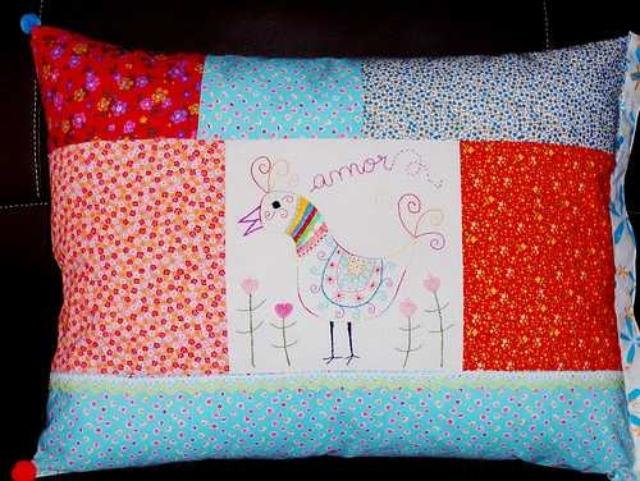pillow: (26, 24, 638, 480)
